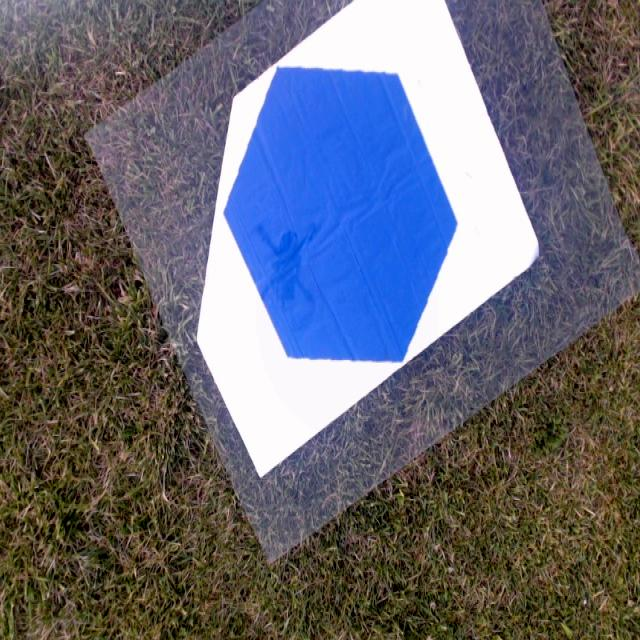blue_hexagon: (223, 66, 458, 362)
